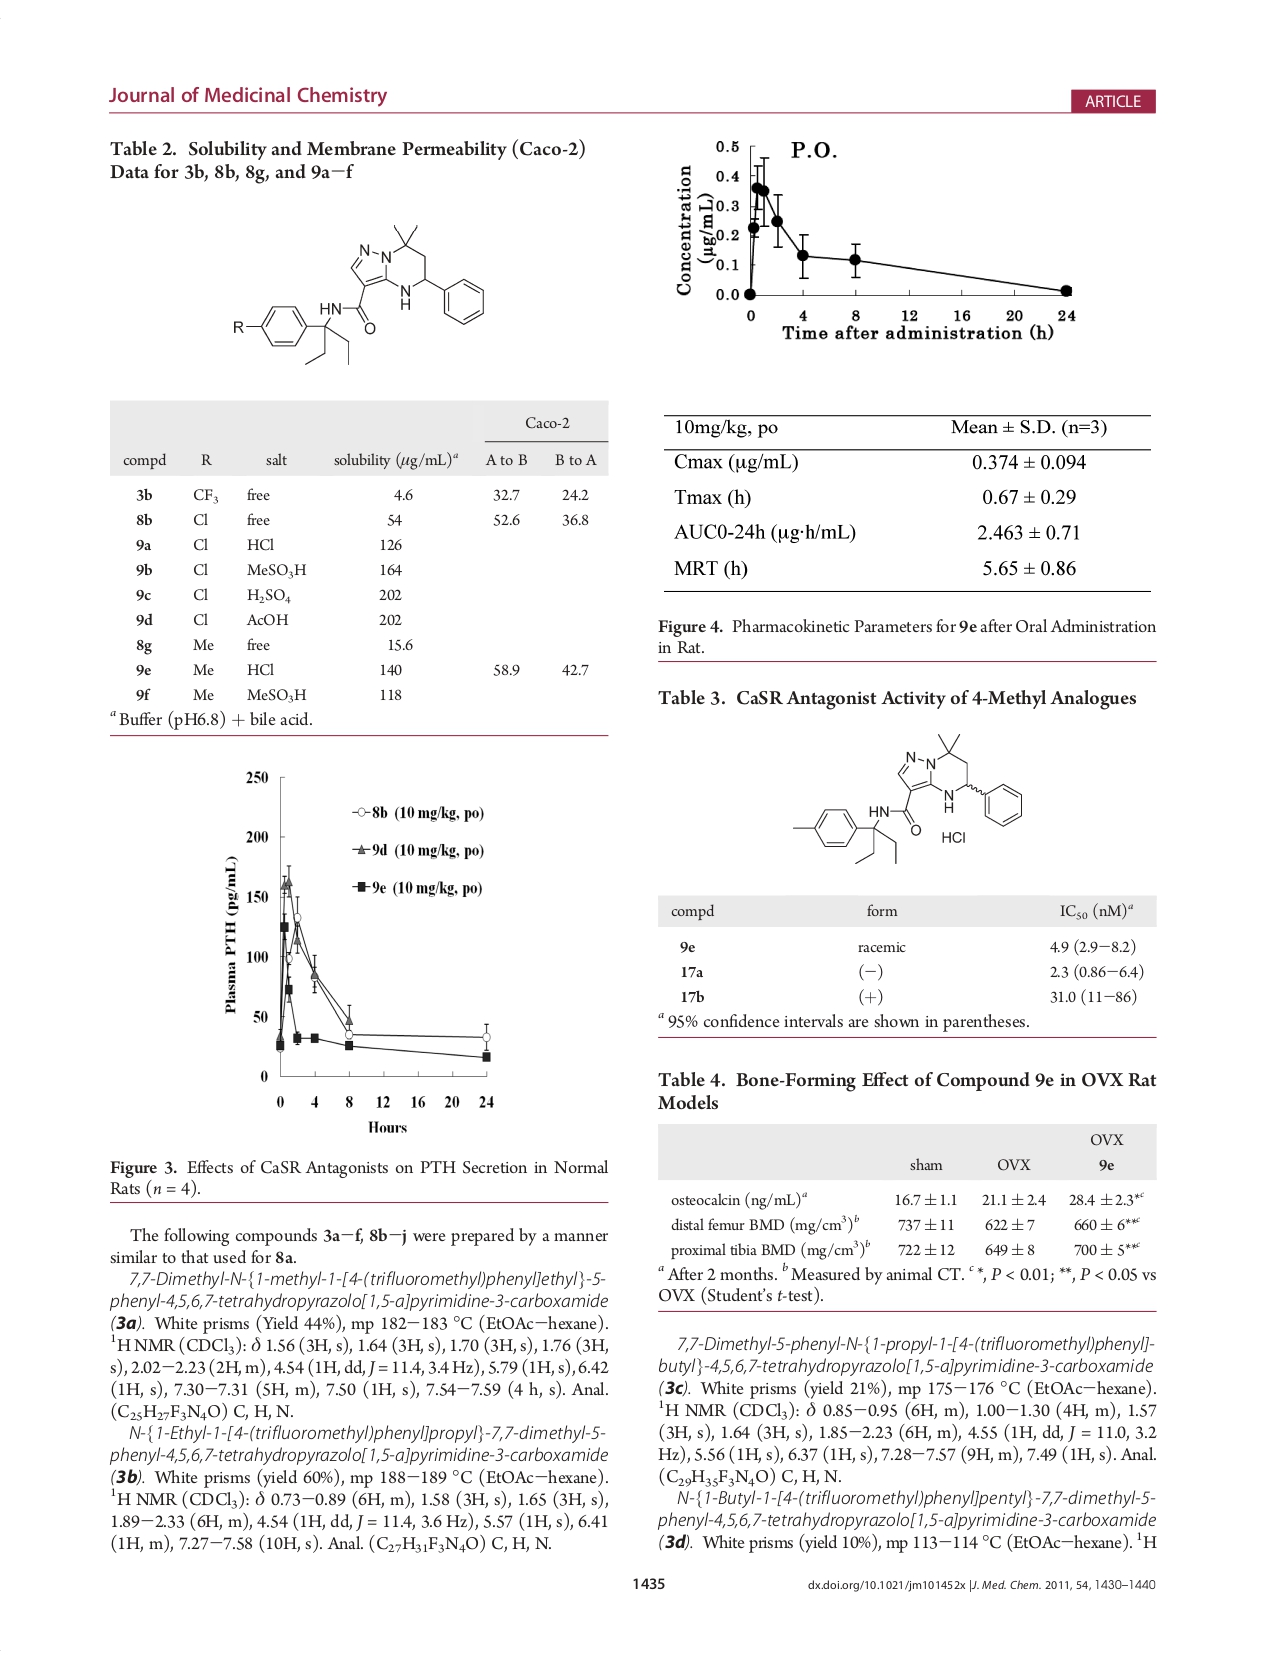exist_molecular: (229, 221, 489, 370), (787, 727, 1025, 866)
